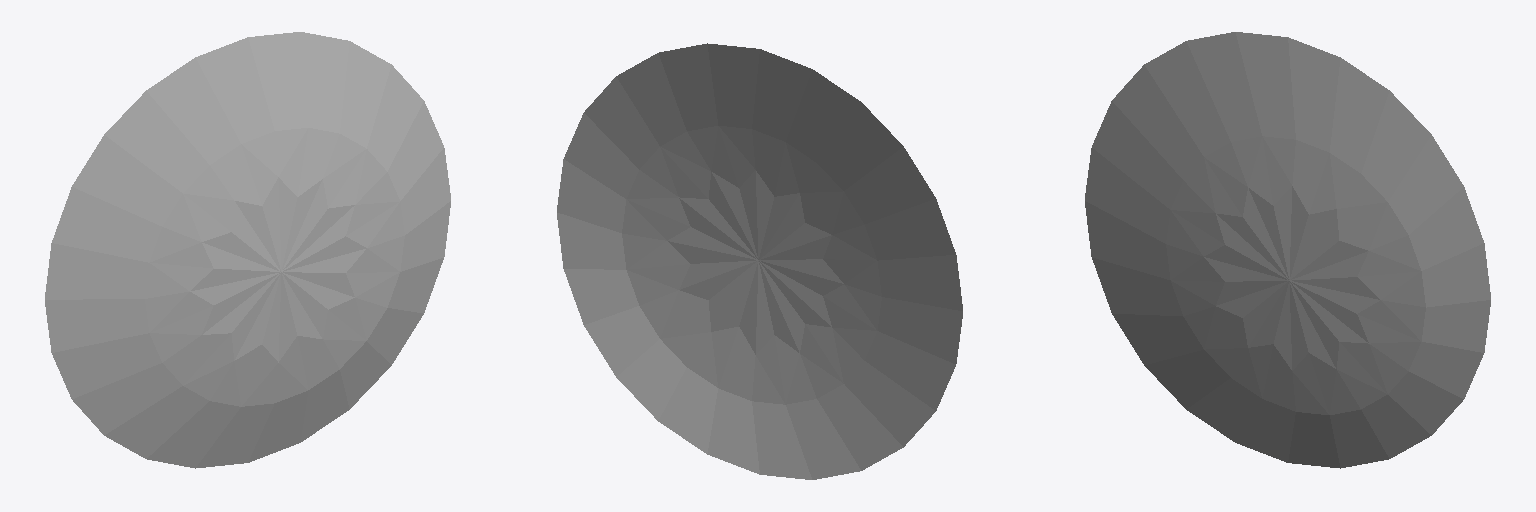
Rendered from R_eyeball.obj.
The picture shows the model from 3 angles: view 1: azimuth 30°, elevation 25°; view 2: azimuth 150°, elevation 25°; view 3: azimuth 330°, elevation 25°; orthographic projection.
Parts seen in each view (by area): view 1: polySurface5 polySurface3 minion_all:Mesh; view 2: polySurface5 polySurface3 minion_all:Mesh; view 3: polySurface5 polySurface3 minion_all:Mesh.
Boxes of the visible parts, x1,y1,x2,y2 form: polySurface5 polySurface3 minion_all:Mesh: [45, 32, 450, 468]; polySurface5 polySurface3 minion_all:Mesh: [557, 43, 962, 479]; polySurface5 polySurface3 minion_all:Mesh: [1085, 32, 1490, 468].
Bounding box in the file's own units: 0.3012 × 0.3011 × 0.0205.